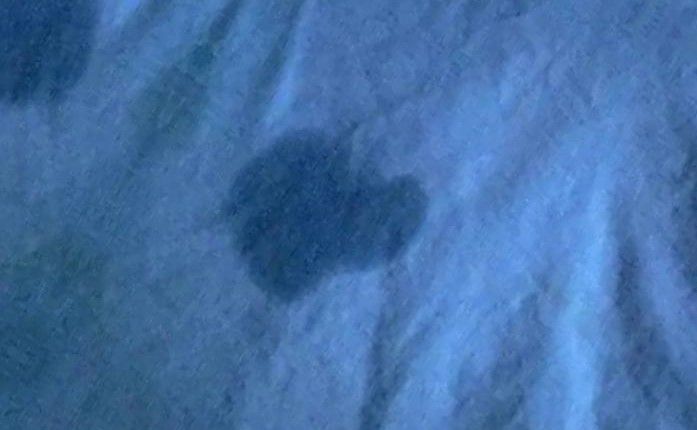stain: (213, 119, 436, 308), (1, 0, 107, 117)
